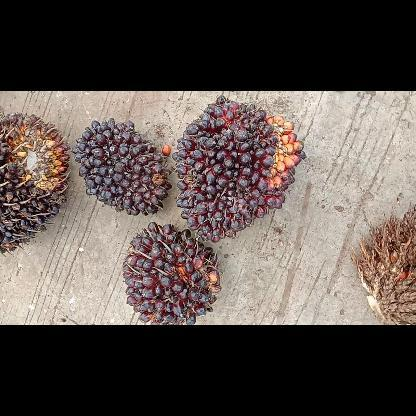TBS mentah: (170, 94, 310, 244), (120, 218, 224, 324), (69, 116, 174, 216)
